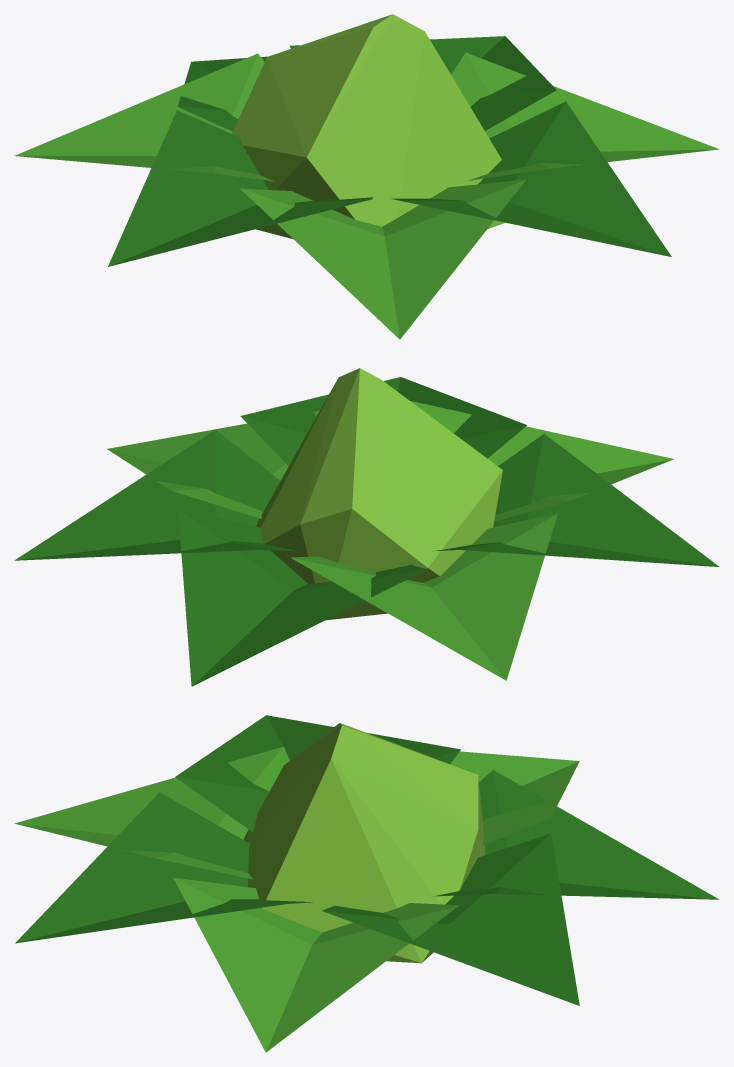
The model's file is field_crop.glb.
The picture shows the model from 3 angles, top to bottom: view 1: azimuth 30°, elevation 25°; view 2: azimuth 150°, elevation 25°; view 3: azimuth 270°, elevation 25°; orthographic projection. The views are drawn at different scales.
Visible parts, largest first — view 1: FieldCrop; view 2: FieldCrop; view 3: FieldCrop.
Part boxes in pixels (box(x1,y1,x2,y2)): FieldCrop: box(14, 14, 719, 339); FieldCrop: box(14, 368, 719, 686); FieldCrop: box(14, 715, 719, 1052).
Bounding box in the file's own units: 0.5901 × 0.175 × 0.5766.
